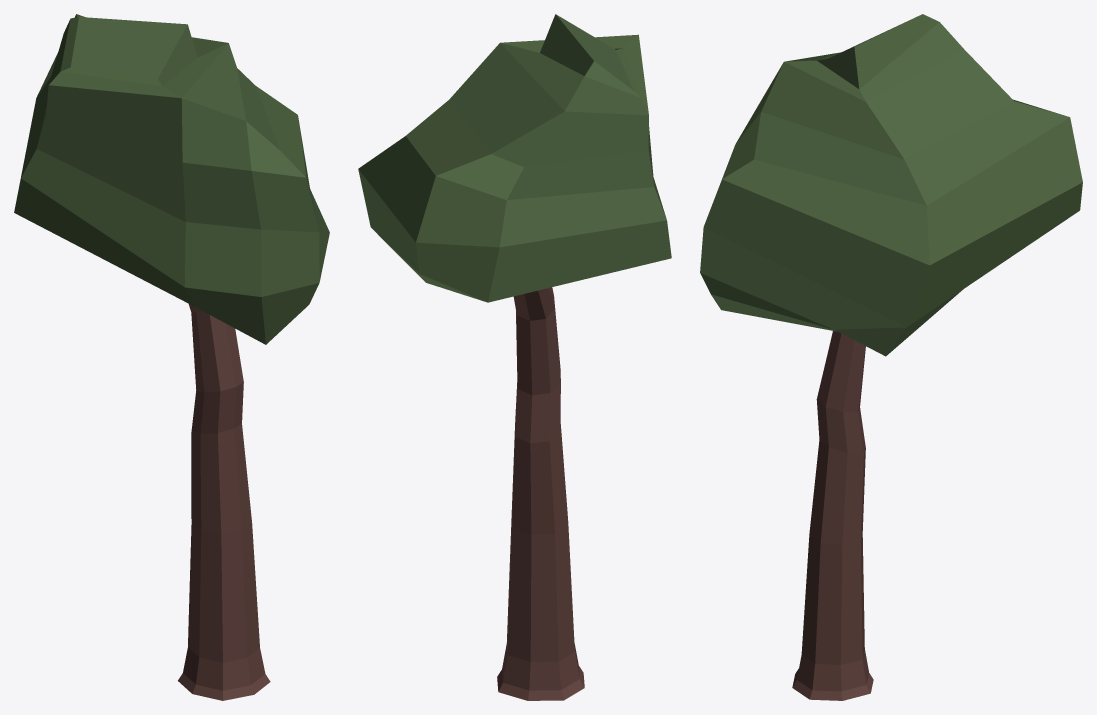
Rendered from orange_2.gltf.
The picture shows the model from 3 angles, left to right: view 1: azimuth 30°, elevation 25°; view 2: azimuth 150°, elevation 25°; view 3: azimuth 270°, elevation 25°; orthographic projection. The views are drawn at different scales.
Parts seen in each view (by area): view 1: orange_2; view 2: orange_2; view 3: orange_2.
Part boxes in pixels (bbox=[...]): orange_2: bbox=[14, 14, 329, 700]; orange_2: bbox=[358, 14, 671, 700]; orange_2: bbox=[700, 14, 1082, 700].
Size of the model in its own units: 0.4385 by 0.9389 by 0.5213.
1 material, 1 textured.
